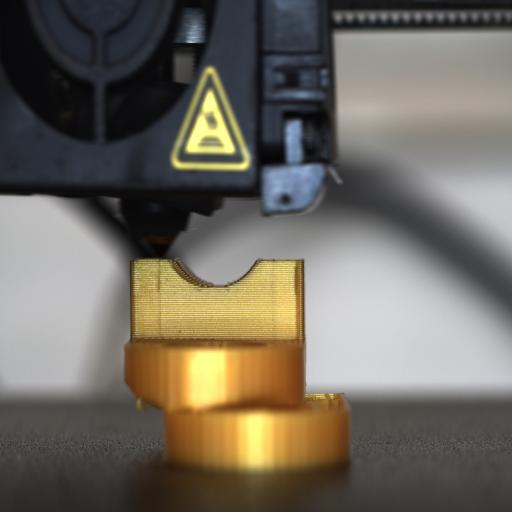layer_shift: (126, 383, 355, 422)
